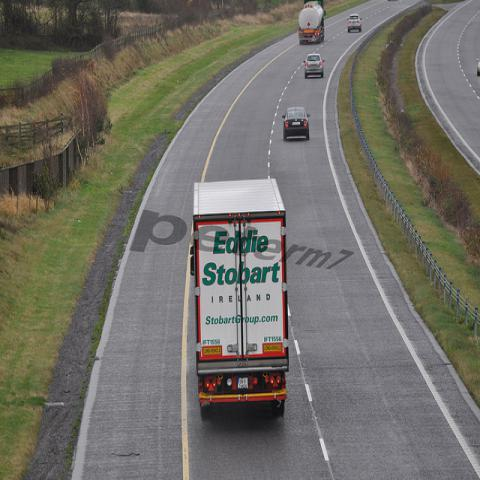car: (281, 104, 310, 140), (303, 53, 325, 78), (347, 14, 362, 33)
truck: (195, 180, 286, 426), (297, 0, 326, 45)
